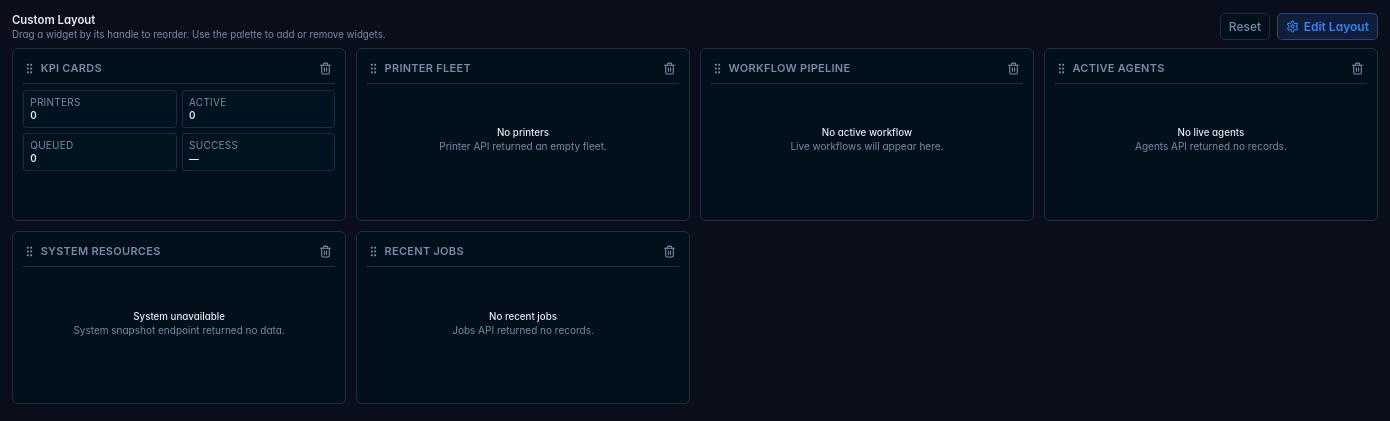
Test case: DashboardCustom › opens the palette when Edit Layout is clicked
What coordinates should you click on to do the following:
click the button with test id "dashboard-custom-edit-btn"
I would click on:
 (1327, 27)
Its box is [1277, 13, 1378, 40].
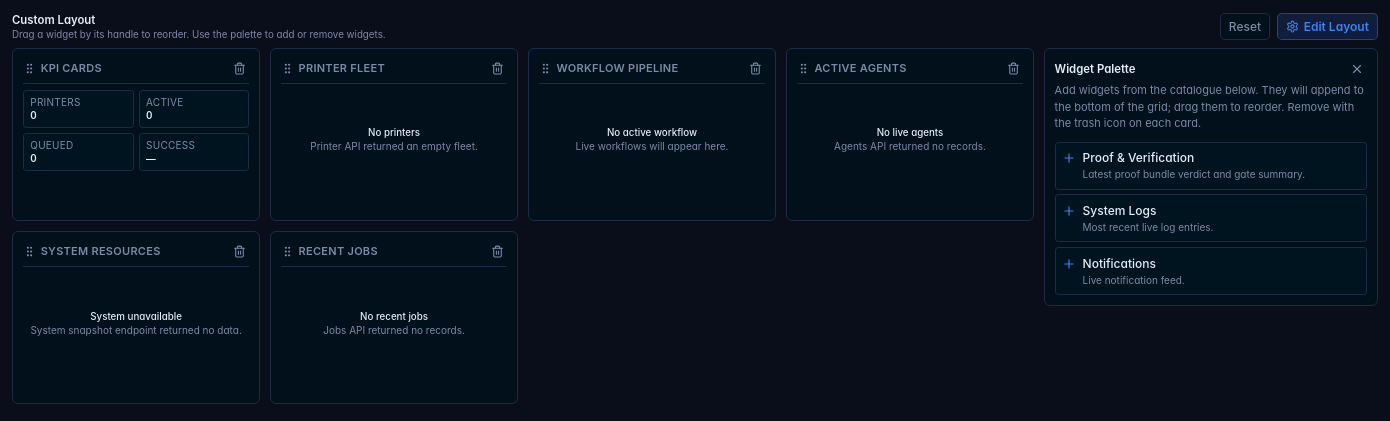
Check: the element with test id "dashboard-custom-palette" is shown, box [1044, 48, 1378, 404]
